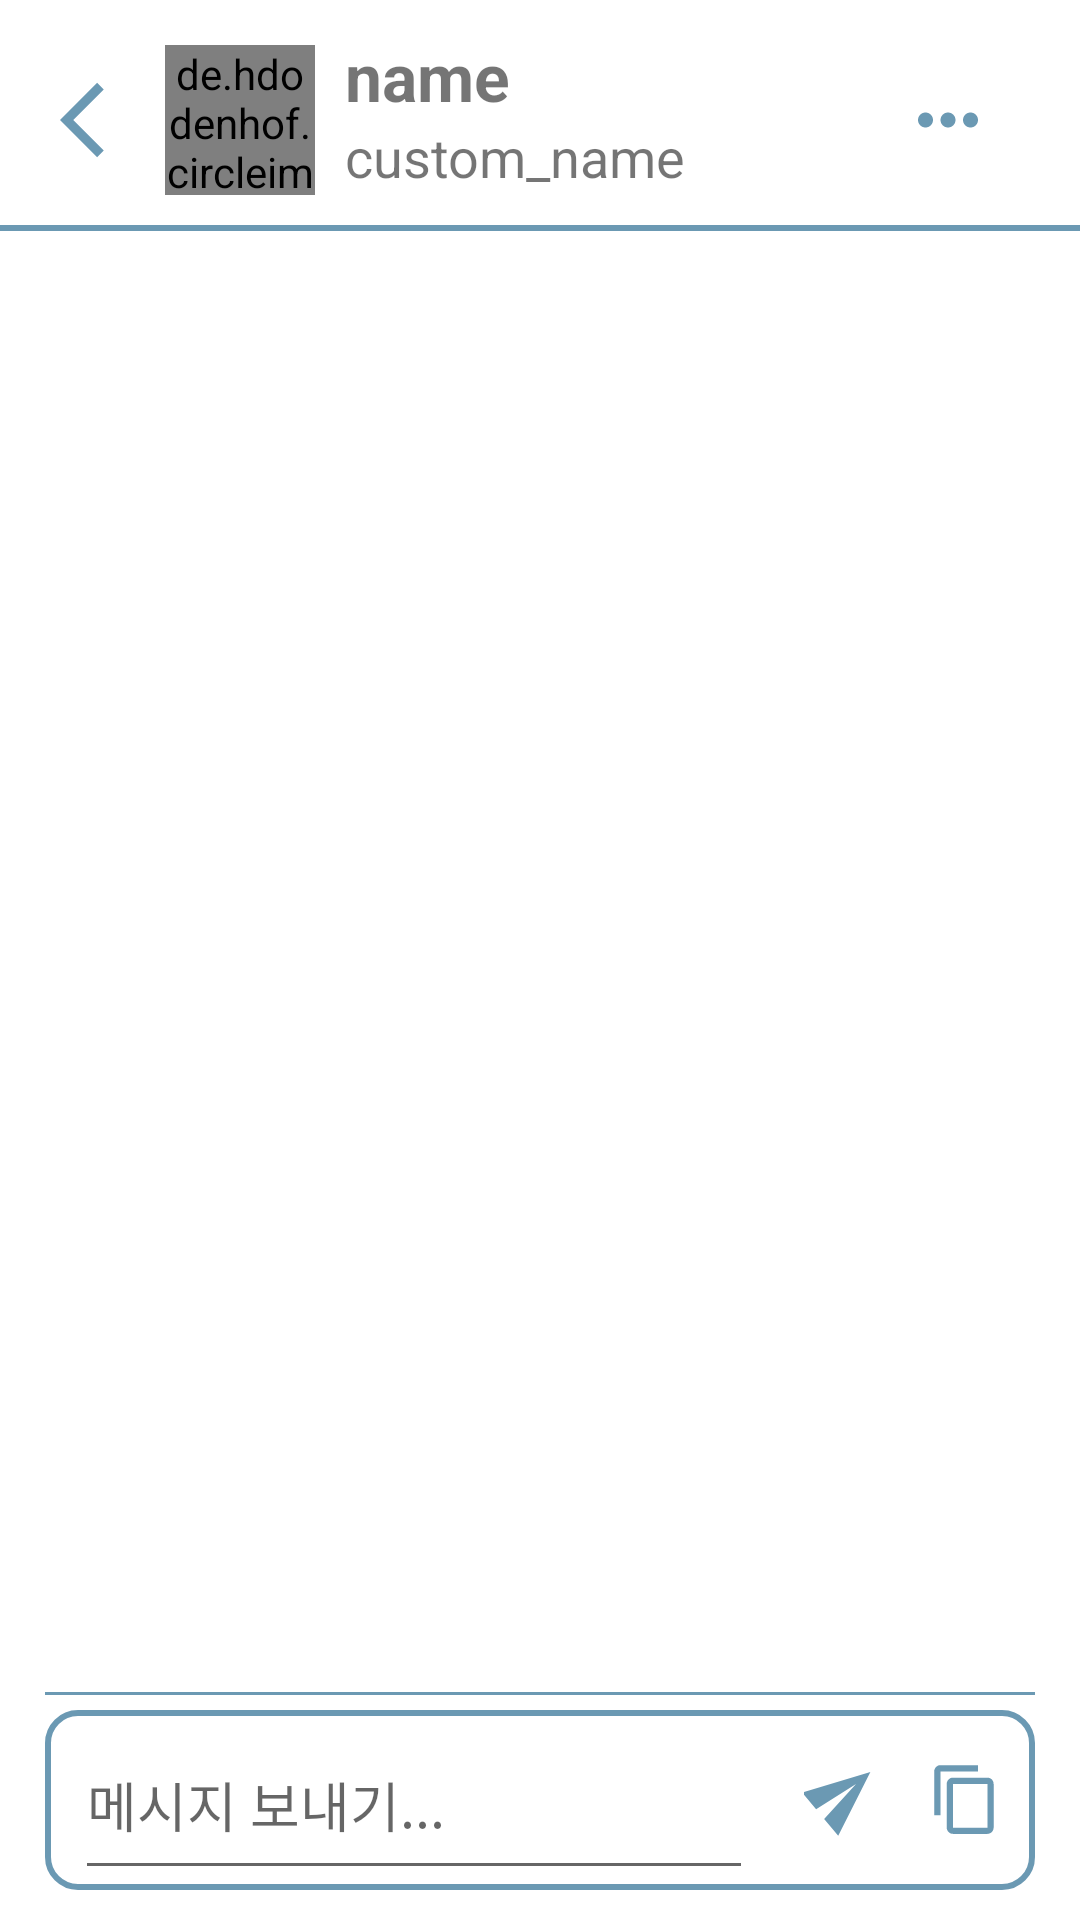

Screen size 1080px x 1920px. Icon name, then its box in pixels as (x1, y1, x2, y2):
arrow back: (60, 83, 104, 157)
more horiz: (918, 112, 978, 128)
send: (804, 1772, 870, 1836)
